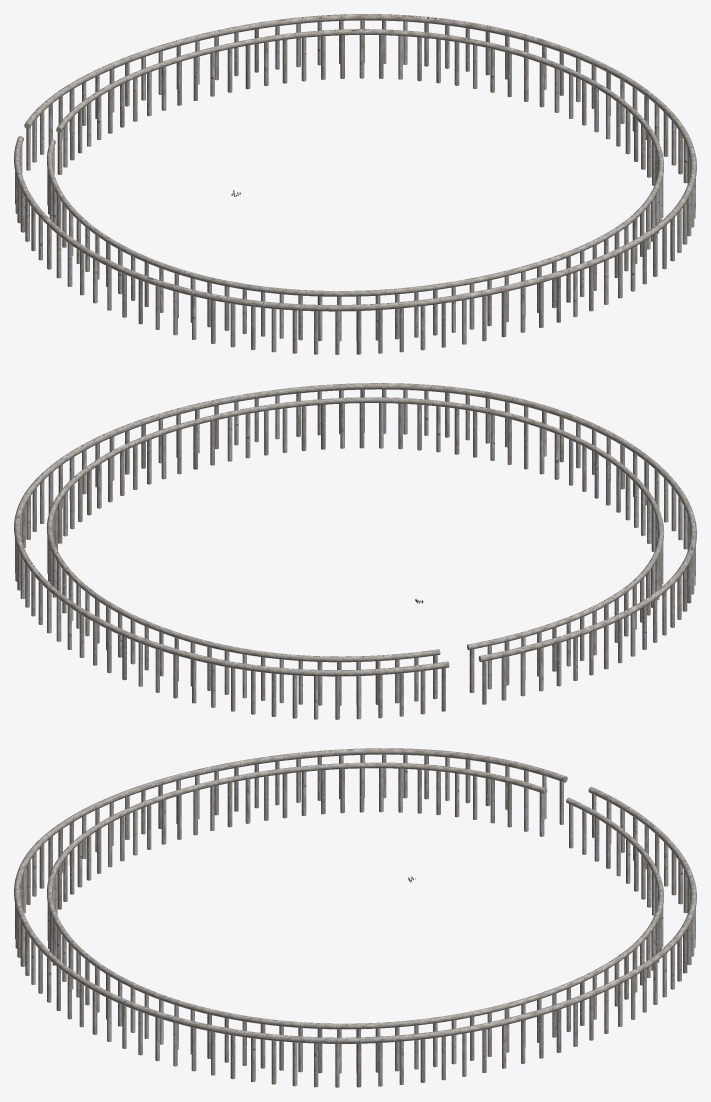
File: 3pallisade.glb
The picture shows the model from 3 angles, top to bottom: view 1: azimuth 30°, elevation 25°; view 2: azimuth 150°, elevation 25°; view 3: azimuth 270°, elevation 25°; orthographic projection.
Visible parts, largest first — view 1: Cylinder079; view 2: Cylinder079; view 3: Cylinder079.
Boxes of the visible parts, x1=… form: Cylinder079: x1=14, y1=14, x2=696, y2=354; Cylinder079: x1=14, y1=383, x2=696, y2=719; Cylinder079: x1=14, y1=748, x2=696, y2=1087.
Bounding box in the file's own units: 502 × 46.32 × 502.
Materials: 9 (9 with a texture image).
